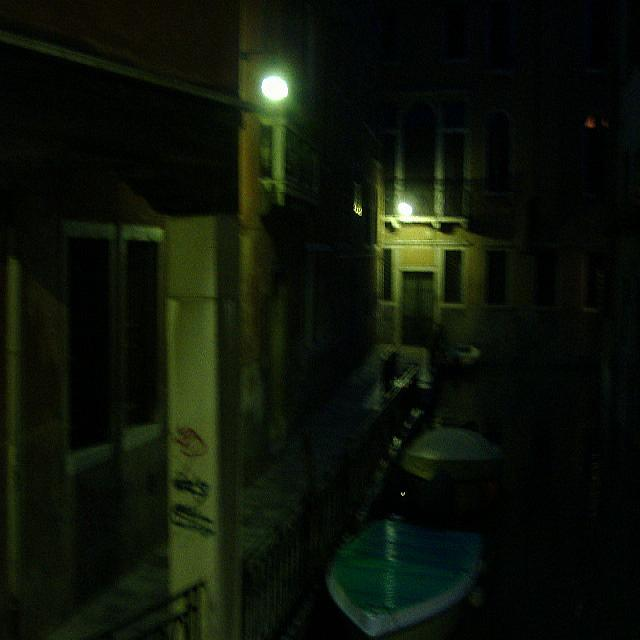Boat: (330, 518, 500, 634), (390, 398, 514, 511)
